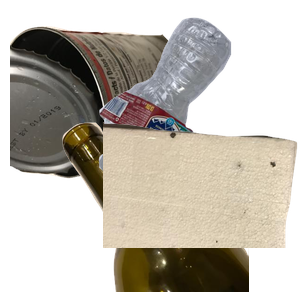glass: (60, 120, 300, 300)
metal: (10, 23, 193, 194)
plastic: (96, 15, 300, 184)
trash: (103, 120, 300, 300)
